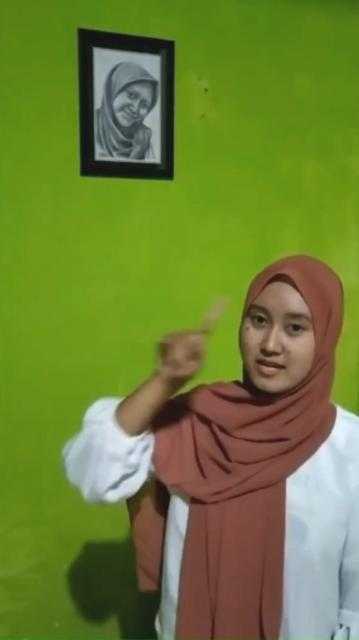Z: (152, 303, 229, 383)
